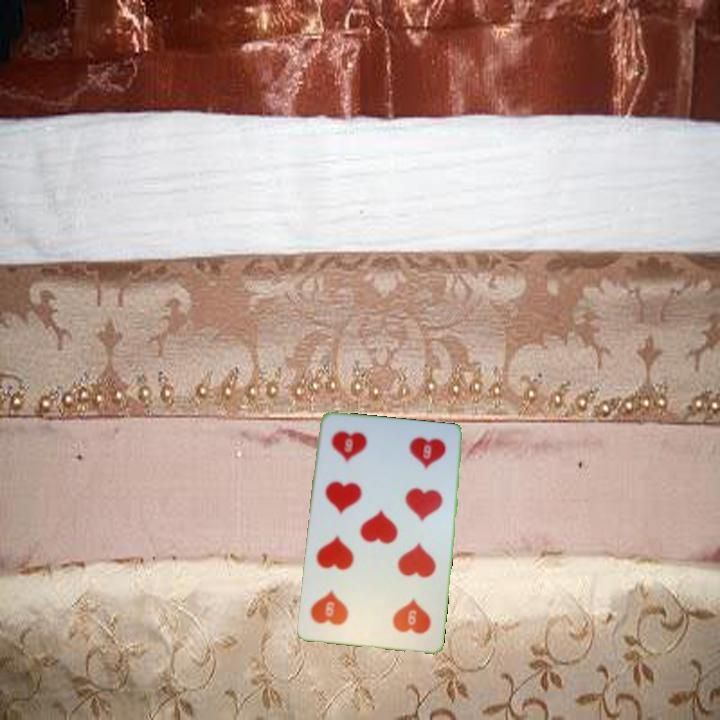h_9.png: (322, 421, 394, 485), (367, 580, 439, 644)
